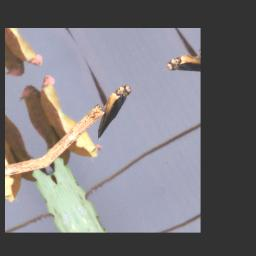Swallow: (79, 82, 146, 140)
